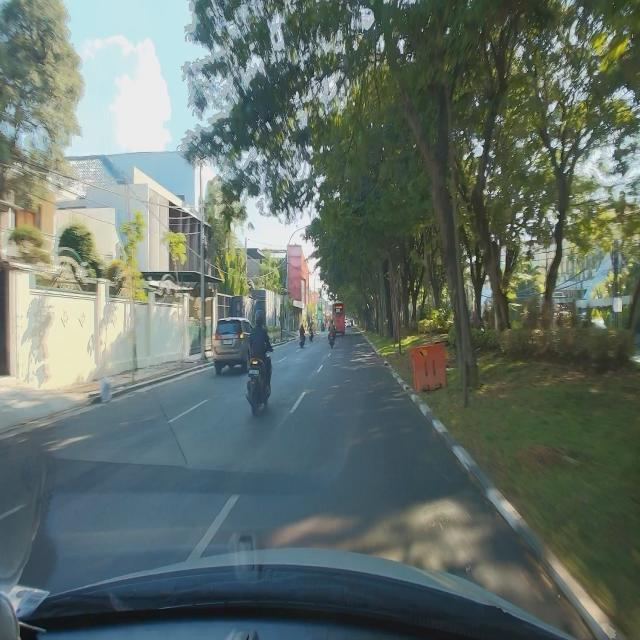car: (212, 315, 256, 375)
license-plate: (223, 339, 233, 345)
